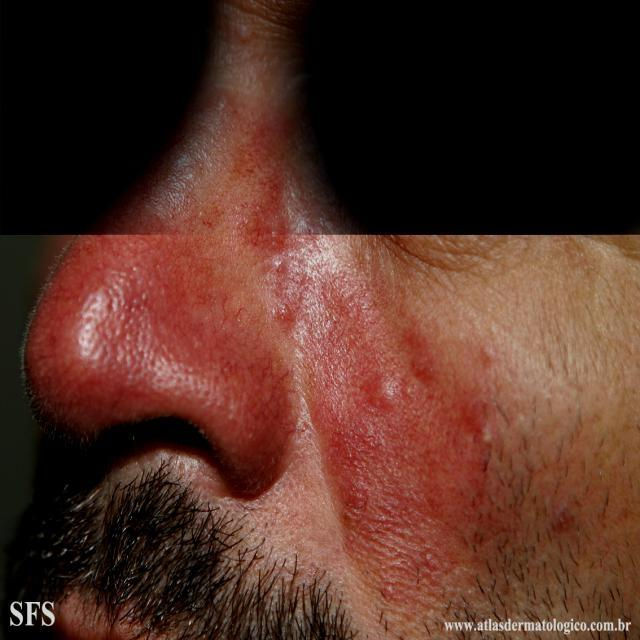Rosacea: (268, 225, 497, 611), (23, 234, 290, 488)
